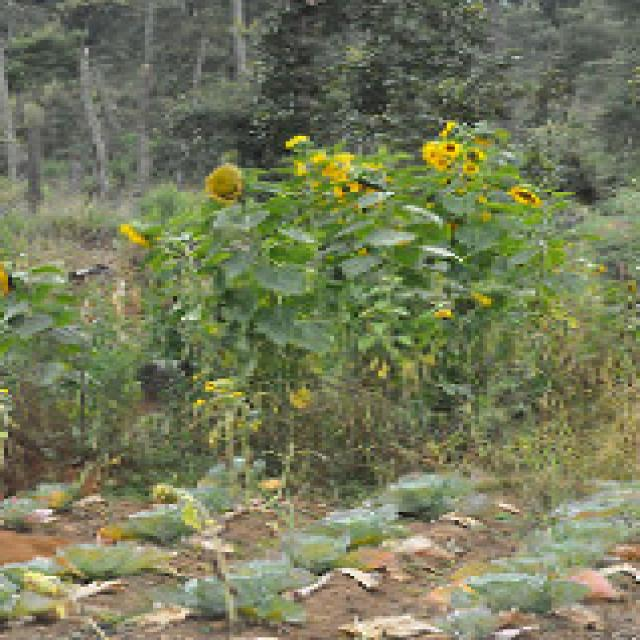sunflower: (202, 162, 255, 204), (423, 136, 468, 175)
